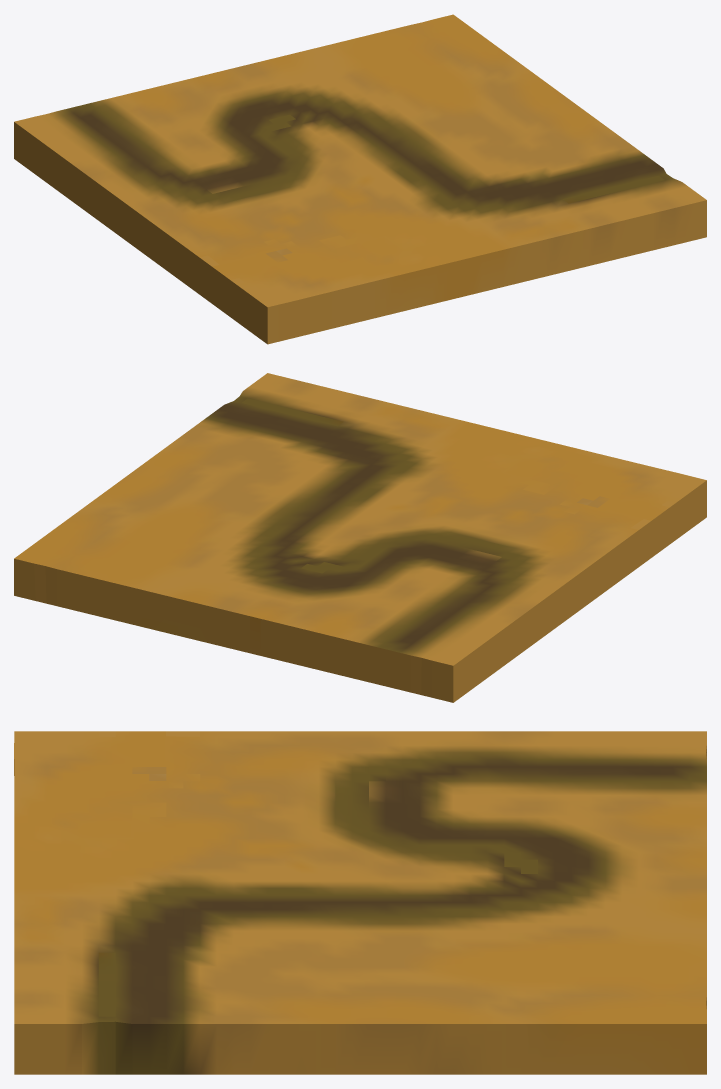
File: Terrain.fbx
3 renders of one model, top to bottom at view 1: azimuth 30°, elevation 25°; view 2: azimuth 150°, elevation 25°; view 3: azimuth 270°, elevation 25°, orthographic. The views are drawn at different scales.
Visible parts, largest first — view 1: Terrain; view 2: Terrain; view 3: Terrain.
Boxes of the visible parts, box(x1,y1,x2,y2) form: Terrain: box(14, 14, 706, 344); Terrain: box(14, 373, 706, 702); Terrain: box(14, 731, 706, 1074).
Bounding box in the file's own units: 4002 × 323 × 4003.
